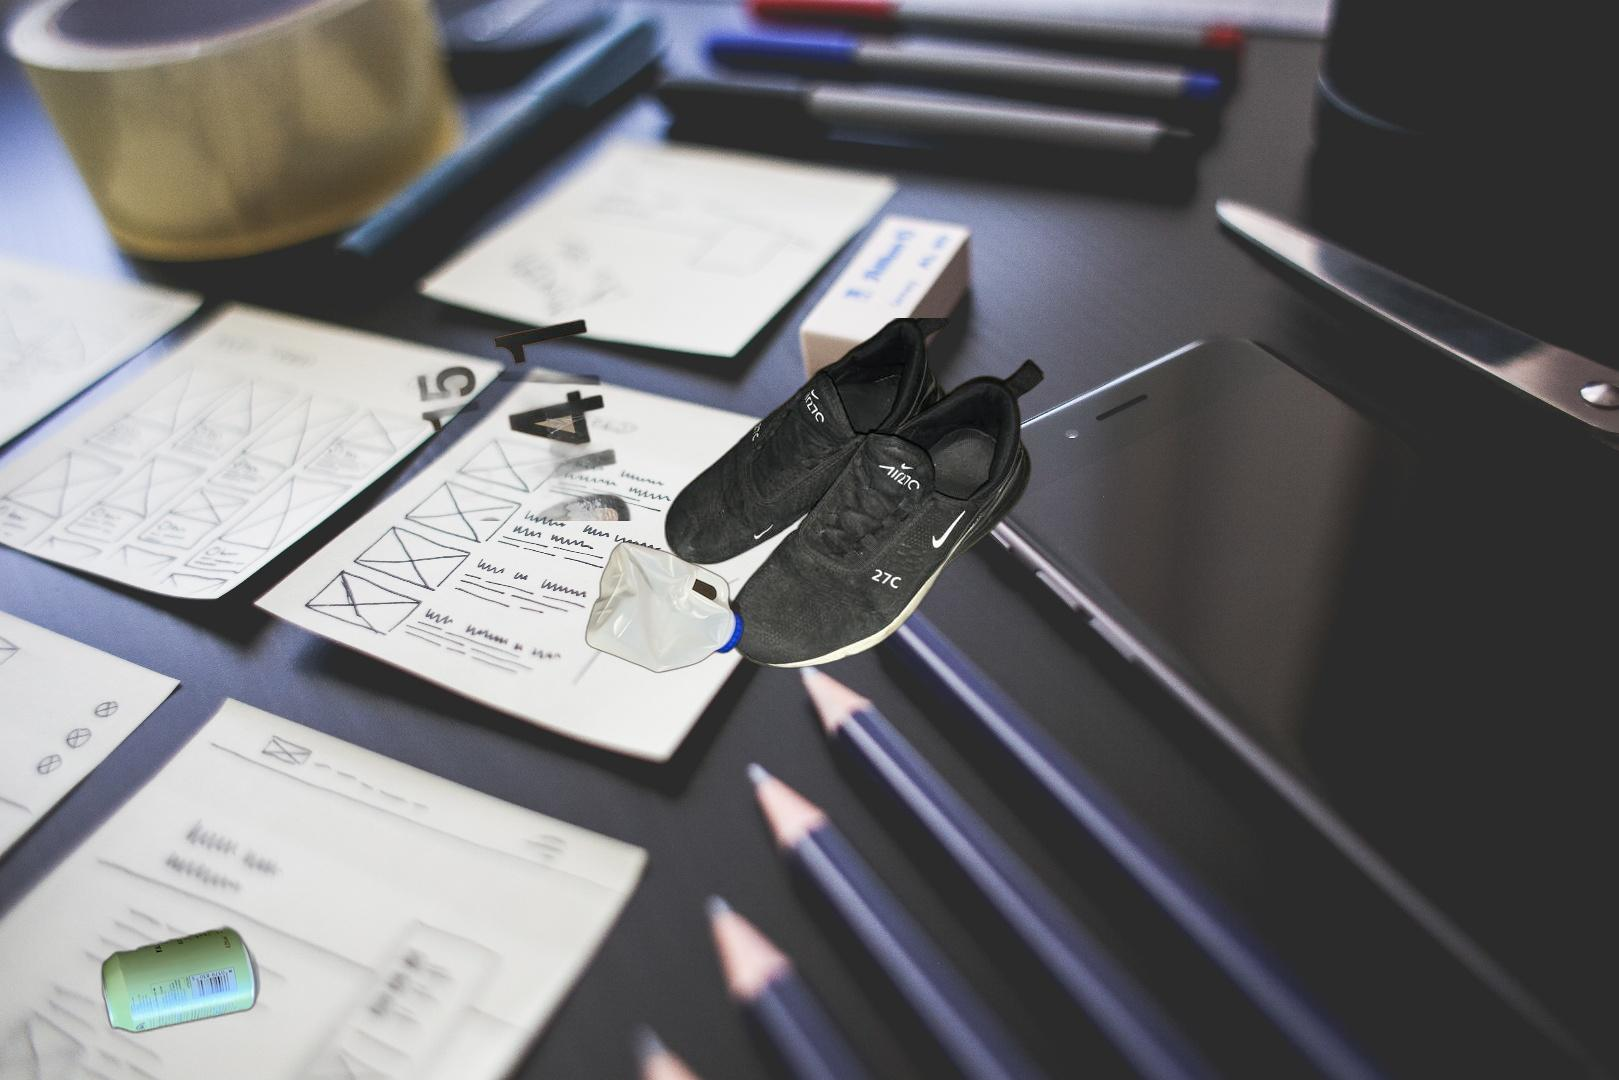metal-cans: (96, 920, 264, 1038)
plastic-bottles: (582, 538, 749, 676)
shoes: (661, 318, 1048, 673)
trashbox-cardboard: (329, 317, 708, 521)
